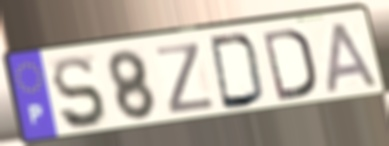8: (106, 46, 158, 125)
A: (324, 19, 381, 95)
D: (206, 32, 266, 112), (259, 25, 317, 104)
S: (50, 54, 109, 132)
Z: (153, 40, 219, 117)
